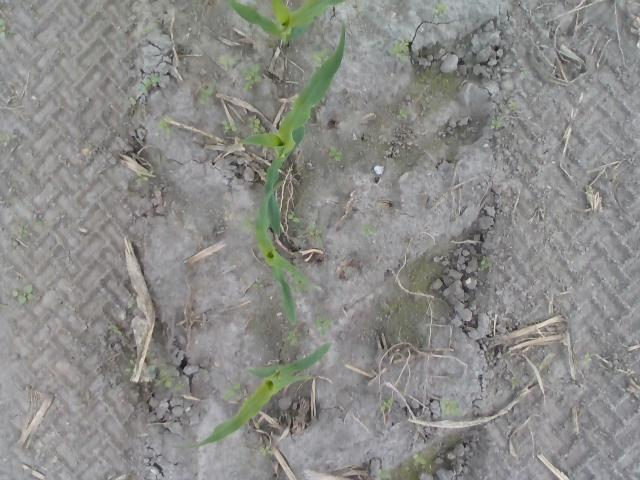Maize: (238, 22, 347, 328), (177, 344, 336, 450), (228, 1, 344, 43)
Weeds: (126, 357, 184, 394), (388, 39, 410, 64), (218, 383, 244, 404), (13, 286, 37, 308), (441, 398, 463, 420), (242, 65, 262, 88), (138, 76, 160, 96), (312, 48, 332, 68), (247, 113, 264, 133), (313, 315, 334, 330), (375, 466, 395, 480), (220, 57, 238, 72), (240, 217, 256, 232), (156, 120, 170, 136), (223, 122, 239, 136), (328, 148, 342, 164), (360, 227, 380, 237), (134, 170, 148, 184), (309, 227, 322, 242), (413, 454, 428, 467), (18, 224, 29, 241), (434, 3, 448, 16), (480, 257, 493, 271), (1, 18, 10, 38), (252, 280, 266, 292), (0, 135, 18, 144), (380, 399, 392, 412), (286, 212, 299, 224), (489, 120, 502, 130), (290, 329, 300, 342), (202, 87, 216, 96), (260, 446, 272, 456), (110, 326, 122, 336), (582, 354, 592, 364), (128, 96, 138, 106), (512, 374, 521, 383), (399, 110, 408, 119), (523, 66, 531, 76), (506, 102, 512, 107)
